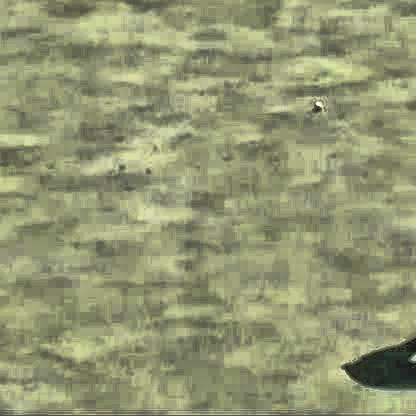golfball: (310, 98, 317, 108)
